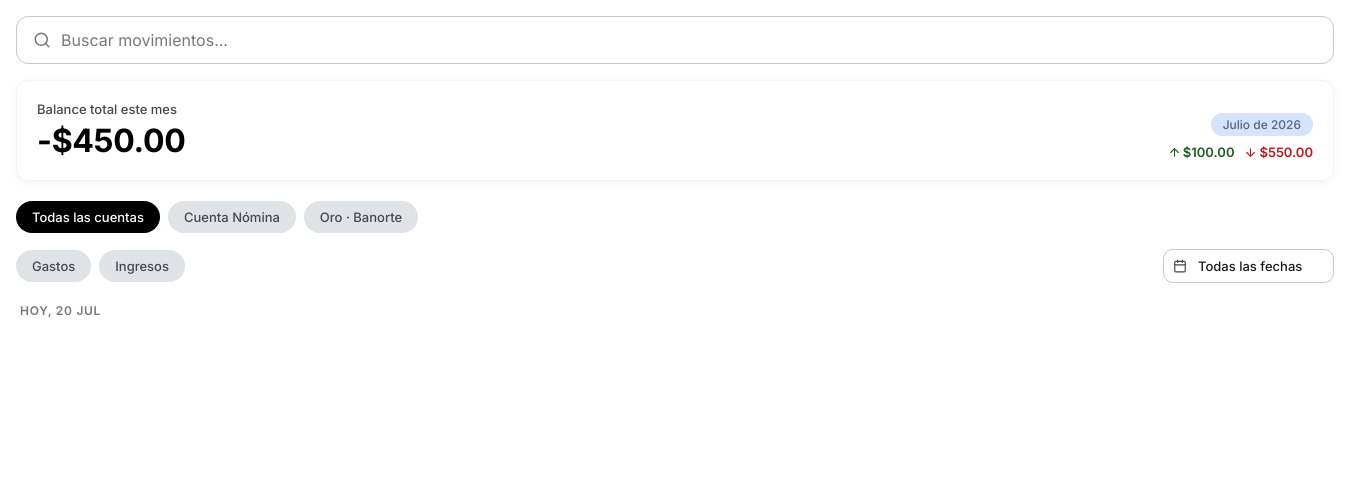
Test case: HistorialView › includes pago_tarjeta movimientos funded from a cuenta when filtering by that cuenta
This screenshot has width=1356, height=501.
Click the button with test id "historial-chip-target-cuenta-1" at {"x": 232, "y": 217}, box [168,201,296,233]
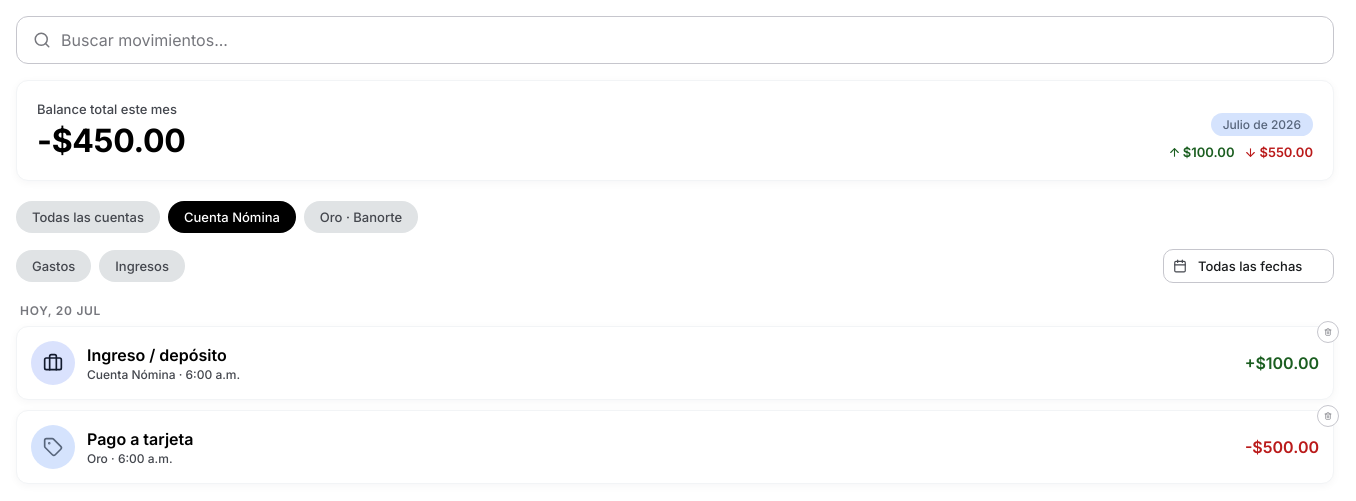
Expected: the text "Ingreso / depósito" is shown, [87,344,227,364]
Expected: the text "Pago a tarjeta" is shown, [87,428,194,448]
